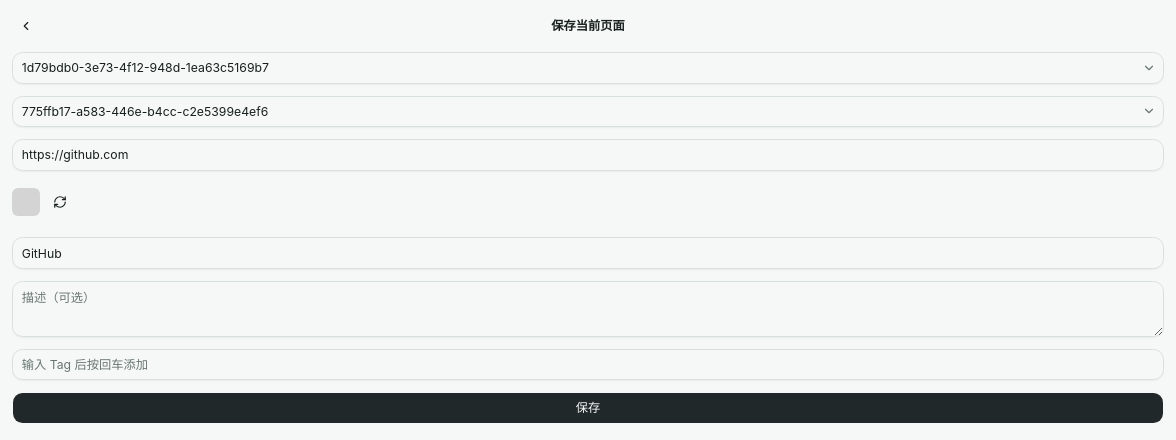
Scenario: SaveBookmarkView › URL 非法（chrome://）时保存按钮禁用
The width and height of the screenshot is (1176, 440).
Replace the text in the field showing "https://github.com" with "chrome://newtab" at (588, 155), box x1=12 y1=139 x2=1164 y2=170
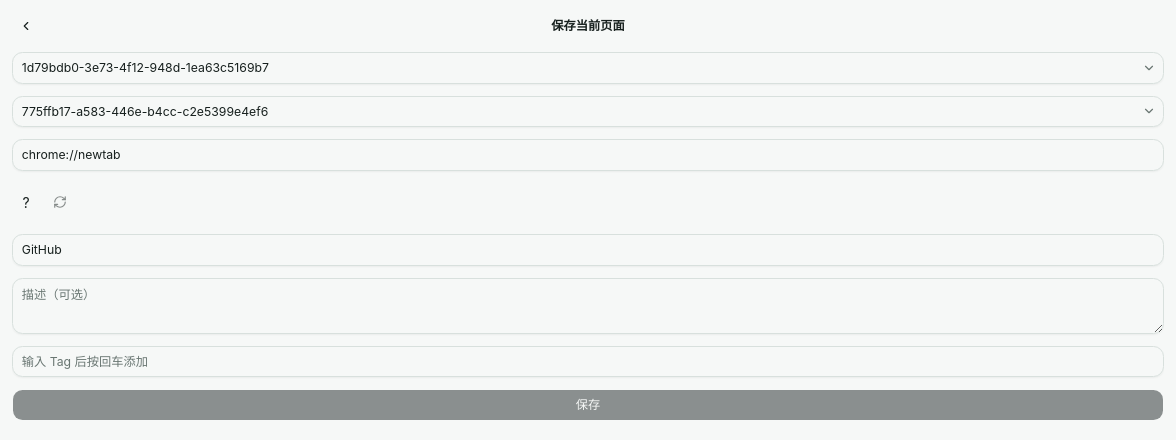
Now the button "保存" is disabled, box x1=12 y1=389 x2=1164 y2=420
